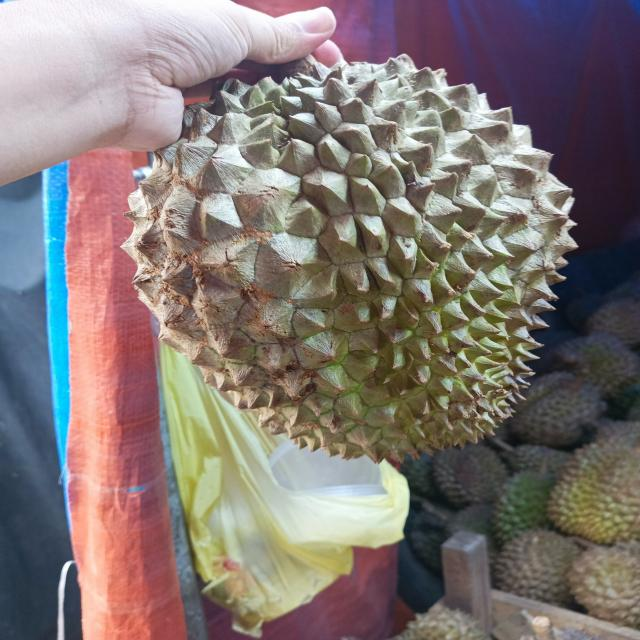mature: (125, 55, 574, 462)
